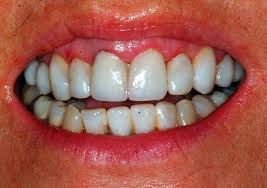decay: (132, 105, 157, 135)
normal: (127, 51, 167, 103), (91, 55, 126, 102), (49, 54, 71, 101), (70, 56, 88, 100), (83, 108, 107, 138), (108, 106, 129, 137), (175, 99, 198, 125), (157, 102, 178, 127), (36, 62, 51, 95), (217, 55, 232, 88), (192, 94, 214, 116), (48, 104, 65, 127), (33, 96, 48, 122), (27, 62, 37, 88), (210, 90, 226, 104), (23, 88, 35, 106), (232, 58, 241, 80), (222, 87, 234, 96)
yellow: (193, 47, 216, 93), (168, 50, 190, 96), (62, 105, 83, 135)
